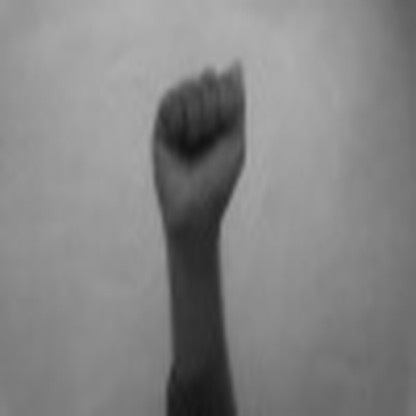a: (142, 47, 252, 239)
